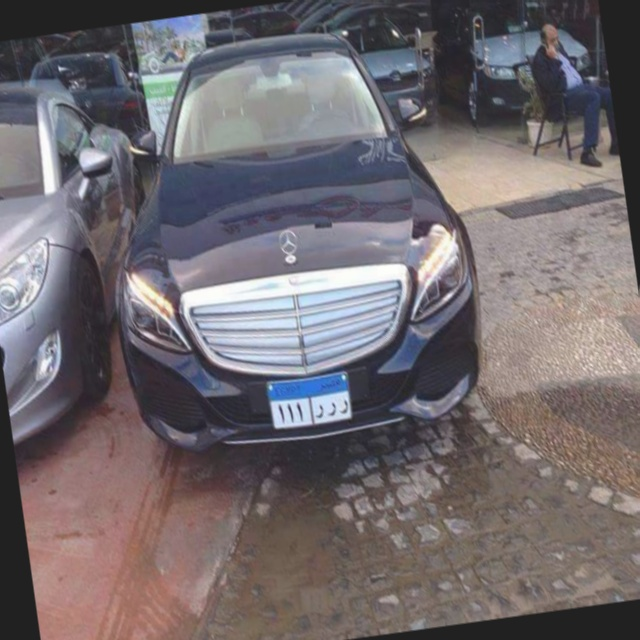License Plate: (265, 369, 356, 433)
